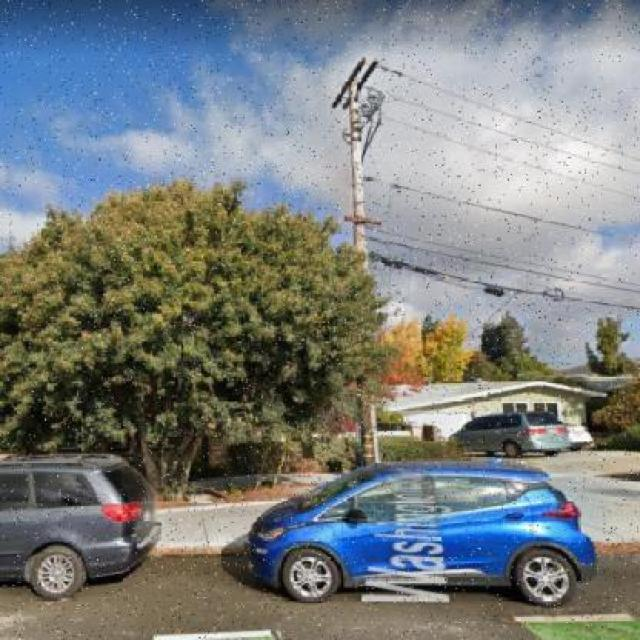pole: (323, 34, 389, 480)
